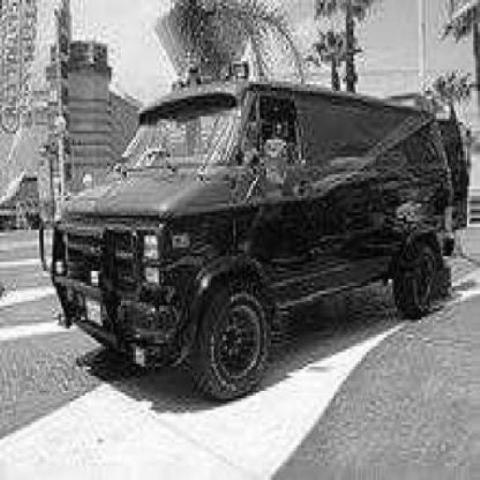van: (68, 84, 454, 400)
